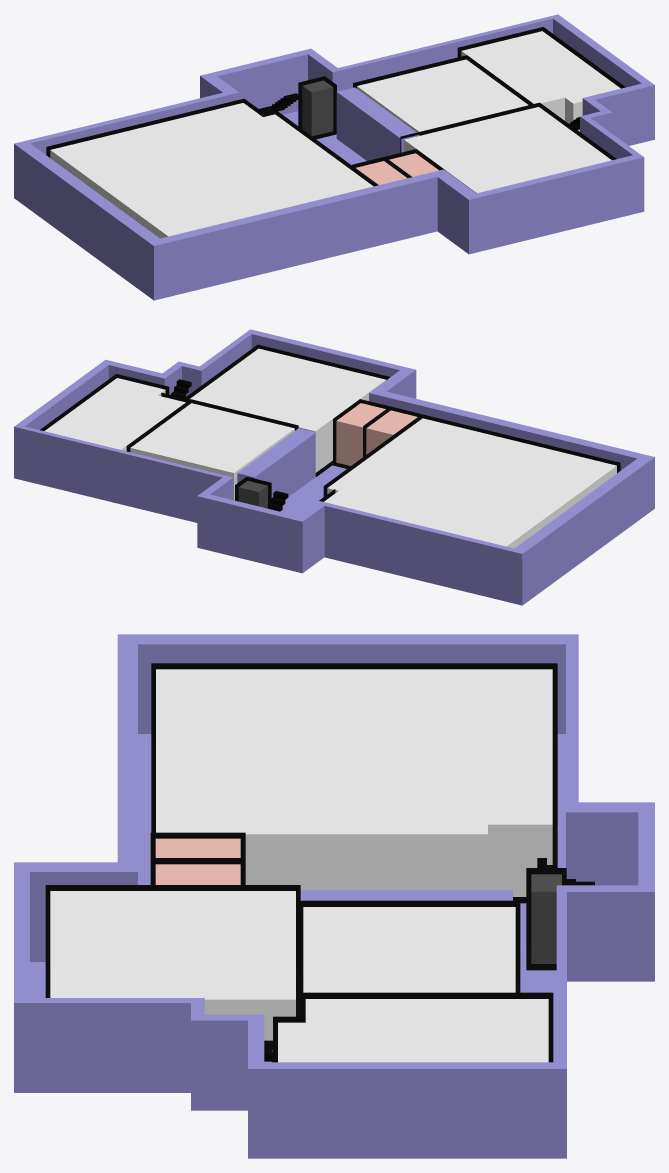
The picture shows the model from 3 angles, top to bottom: view 1: azimuth 30°, elevation 25°; view 2: azimuth 150°, elevation 25°; view 3: azimuth 270°, elevation 25°; orthographic projection. The views are drawn at different scales.
Visible parts, largest first — view 1: object, room_L_3_2, room_L_3_1, room_L_3_3, room_L_3_4, object_line.006, エレベーター_L_3_1, object_line.002, object_line.003, object_line.004, トイレ_L_3_1, object_line.005 (+1 smaller); view 2: object, room_L_3_2, room_L_3_1, room_L_3_3, room_L_3_4, トイレ_L_3_2, object_line.006, トイレ_L_3_1, object_line.002, object_line.003, object_line.004, エレベーター_L_3_1 (+1 smaller); view 3: object, room_L_3_2, room_L_3_1, room_L_3_3, room_L_3_4, object_line.006, object_line.004, object_line.002, object_line.003, エレベーター_L_3_1, トイレ_L_3_2, トイレ_L_3_1 (+3 smaller).
Boxes of the visible parts, x1,y1,x2,y2 form: object: (14, 14, 654, 300); room_L_3_2: (50, 103, 373, 238); room_L_3_1: (404, 107, 611, 193); room_L_3_3: (357, 59, 528, 132); room_L_3_4: (461, 31, 620, 131); object_line.006: (46, 98, 378, 186); エレベーター_L_3_1: (302, 80, 333, 136); object_line.002: (400, 102, 616, 160); object_line.003: (353, 55, 534, 107); object_line.004: (457, 27, 625, 88); トイレ_L_3_1: (356, 161, 406, 184); object_line.005: (298, 76, 336, 139); object: (14, 329, 654, 605); room_L_3_2: (324, 418, 616, 548); room_L_3_1: (189, 348, 385, 472); room_L_3_3: (130, 403, 294, 500); room_L_3_4: (44, 378, 185, 451); トイレ_L_3_2: (336, 403, 385, 465); object_line.006: (319, 414, 620, 501); トイレ_L_3_1: (366, 410, 417, 454); object_line.002: (185, 344, 389, 476); object_line.003: (126, 399, 298, 451); object_line.004: (40, 374, 189, 430); エレベーター_L_3_1: (238, 480, 267, 508); object: (14, 634, 654, 1158); room_L_3_2: (156, 669, 552, 896); room_L_3_1: (50, 891, 295, 1062); room_L_3_3: (303, 907, 515, 992); room_L_3_4: (278, 999, 548, 1062); object_line.006: (151, 663, 557, 903); object_line.004: (273, 992, 553, 1062); object_line.002: (45, 885, 300, 1016); object_line.003: (298, 900, 520, 992); エレベーター_L_3_1: (531, 874, 561, 963); トイレ_L_3_2: (155, 864, 240, 884); トイレ_L_3_1: (155, 838, 240, 857).
Size of the model in its own units: 2.35 by 0.2295 by 1.46.
